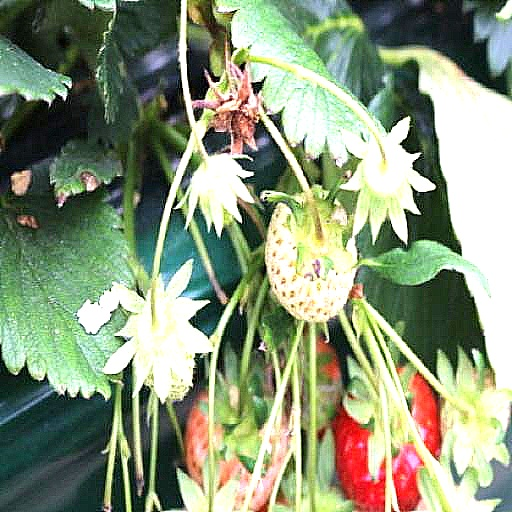Gray Mold: (191, 37, 264, 155)
